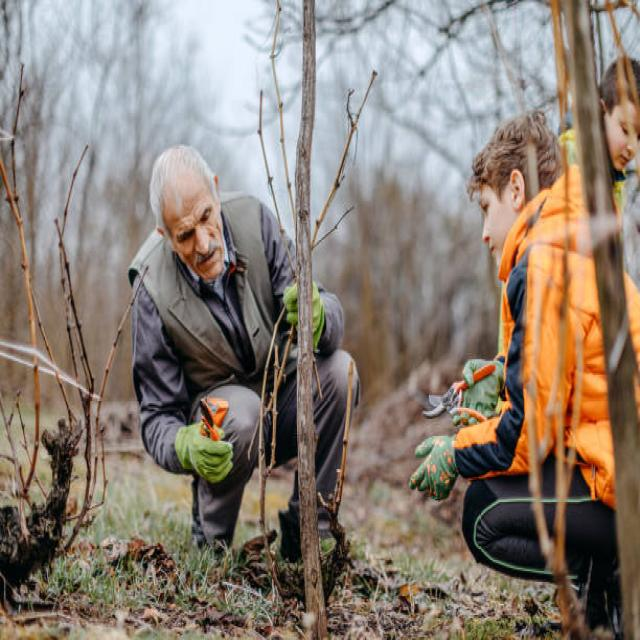Gloves: (171, 411, 239, 489), (406, 428, 466, 510), (453, 348, 512, 428), (282, 271, 326, 362)
person: (407, 110, 640, 639), (130, 136, 362, 562), (558, 50, 640, 236)
